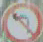Don't turn left: (3, 3, 42, 40)
